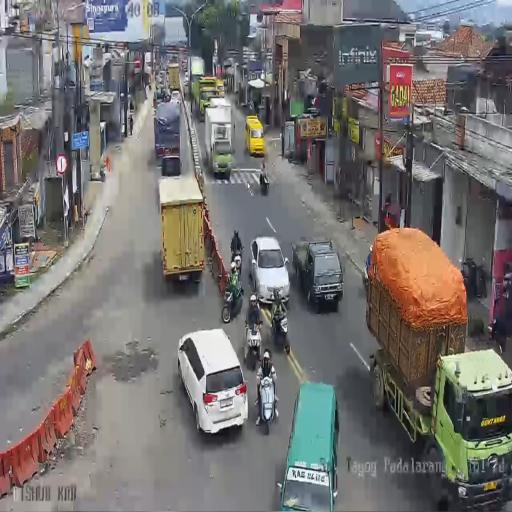3: (158, 175, 206, 283), (204, 99, 234, 180), (154, 98, 181, 174), (190, 56, 205, 97), (167, 63, 181, 95)
car: (176, 328, 248, 434), (277, 381, 336, 508), (291, 237, 342, 312), (248, 235, 290, 304), (244, 114, 265, 155), (155, 82, 166, 100), (216, 80, 225, 98), (183, 73, 189, 94)
truck: (255, 366, 278, 435), (270, 298, 290, 353), (222, 276, 244, 324), (244, 314, 262, 369)
